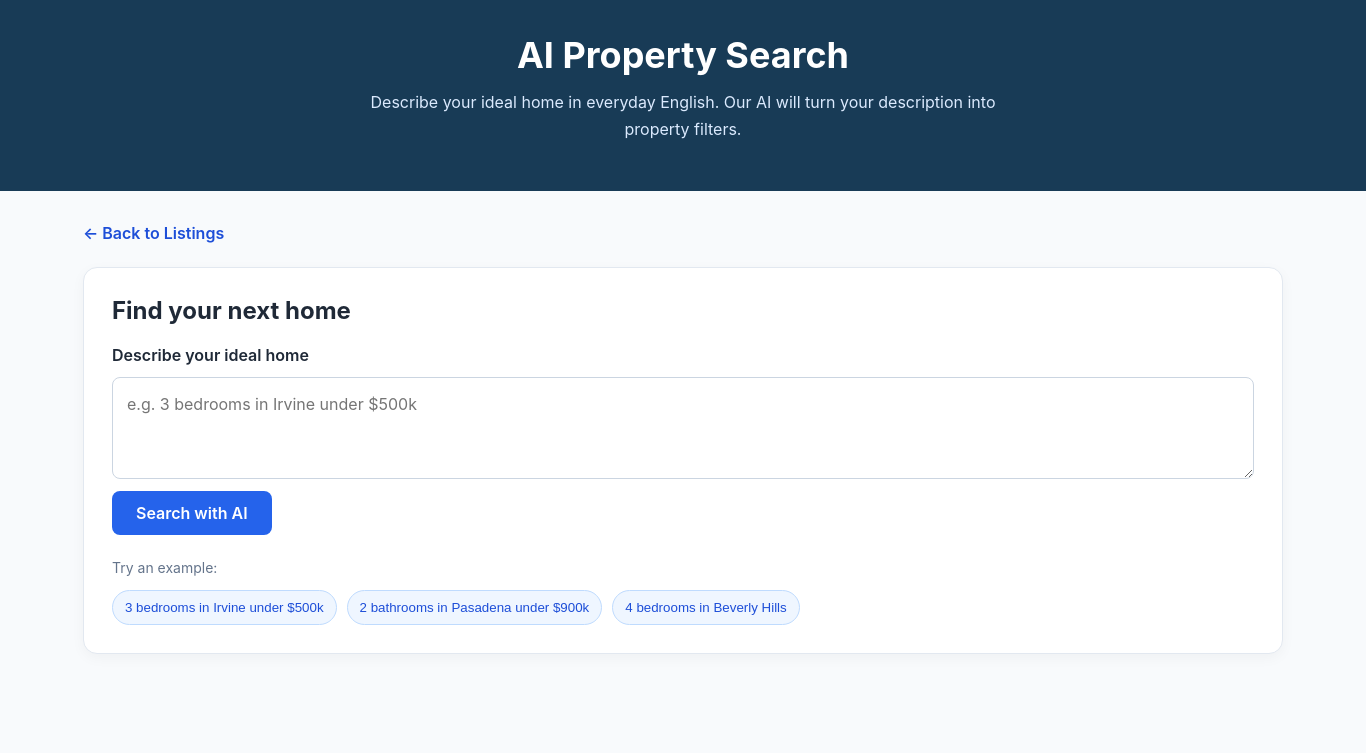
Scenario: NaturalSearchPage › displays an API error
Type "3 bedrooms in Irvine" into the text box labelled "Describe your ideal home".
click(683, 428); type("3 bedrooms in Irvine")  # box [112,377,1254,479]
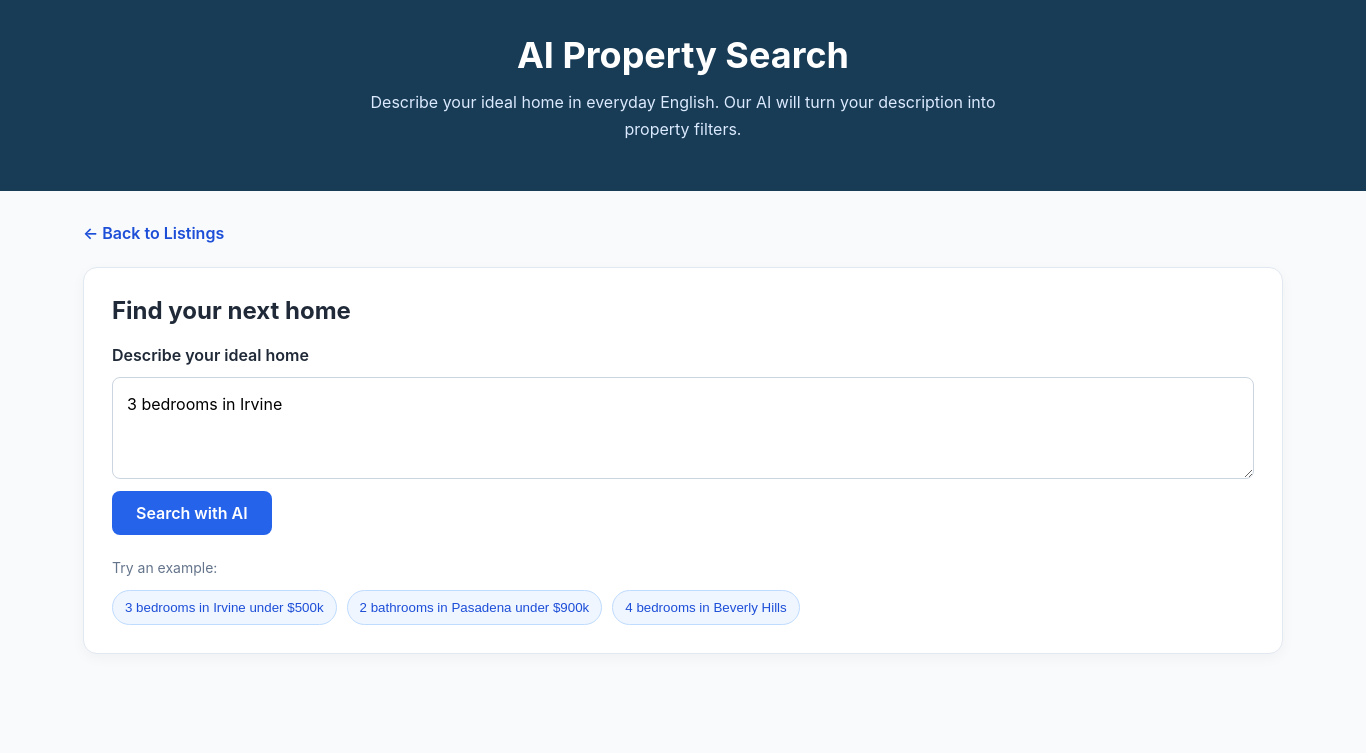
Click the button "Search with AI".
click(192, 513)  # box [112,491,272,535]
(page scrolled)
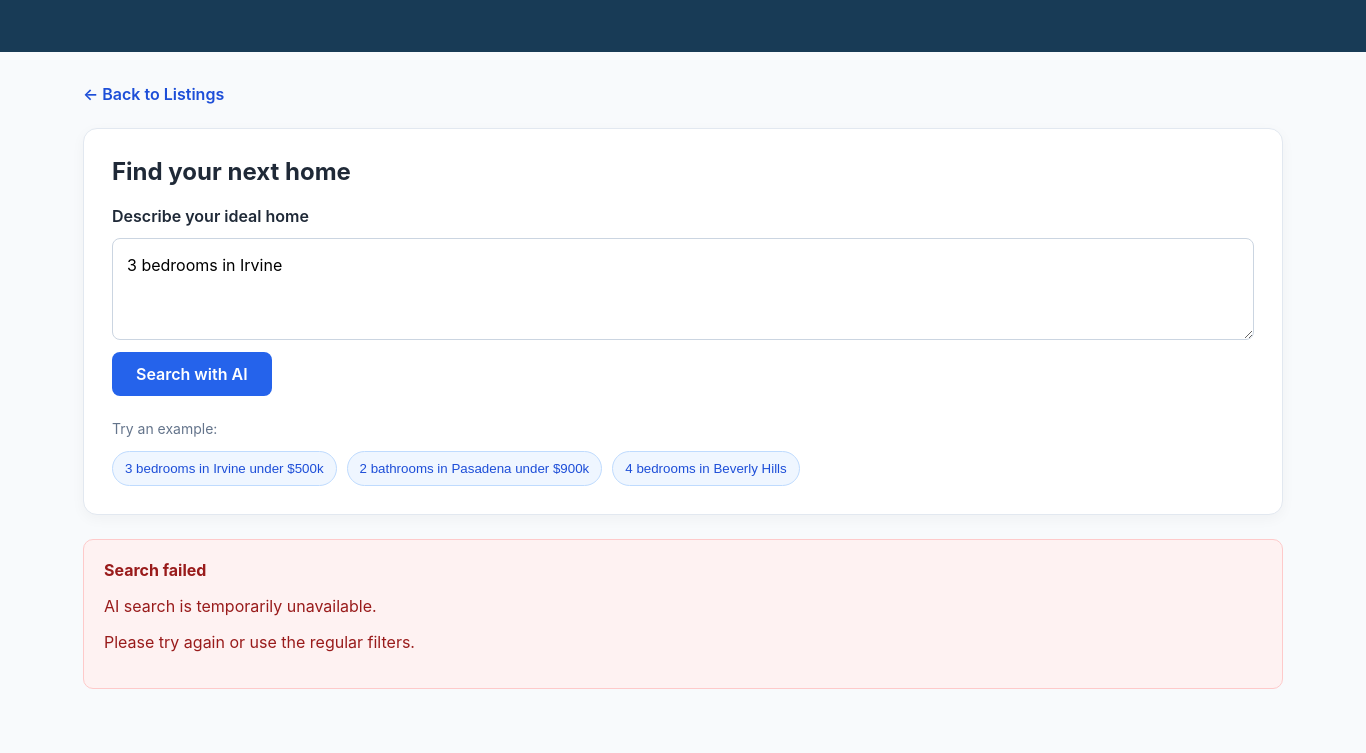
Result: the message shows "AI search is temporarily unavailable." at [104,596,377,616]
